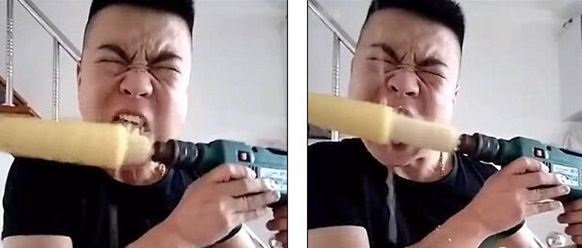face: (357, 13, 458, 167), (79, 10, 184, 154)
